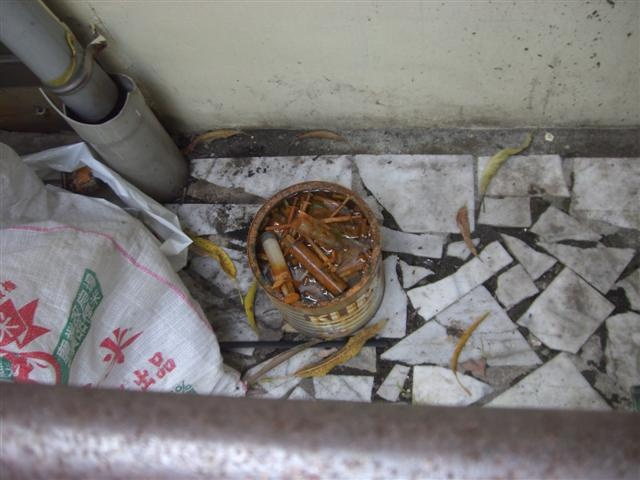bucket: (245, 179, 386, 345)
plastic_bag: (1, 140, 247, 397)
